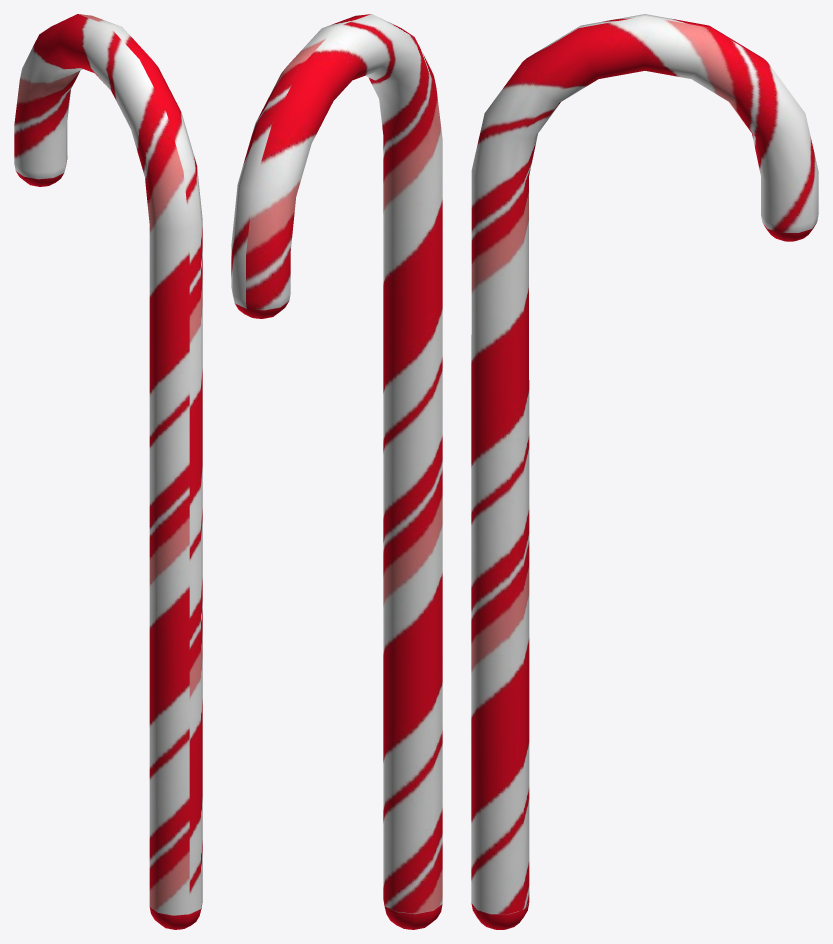
File: candycaneorigin (1).fbx
3 renders of one model, left to right at view 1: azimuth 30°, elevation 25°; view 2: azimuth 150°, elevation 25°; view 3: azimuth 270°, elevation 25°, orthographic. The views are drawn at different scales.
Visible parts, largest first — view 1: Circle; view 2: Circle; view 3: Circle.
Part boxes in pixels (<box>): Circle: <box>14,14,202,929</box>; Circle: <box>231,14,442,929</box>; Circle: <box>471,14,818,929</box>.
Size of the model in its own units: 38.04 by 695 by 240.
1 material, 1 textured.
